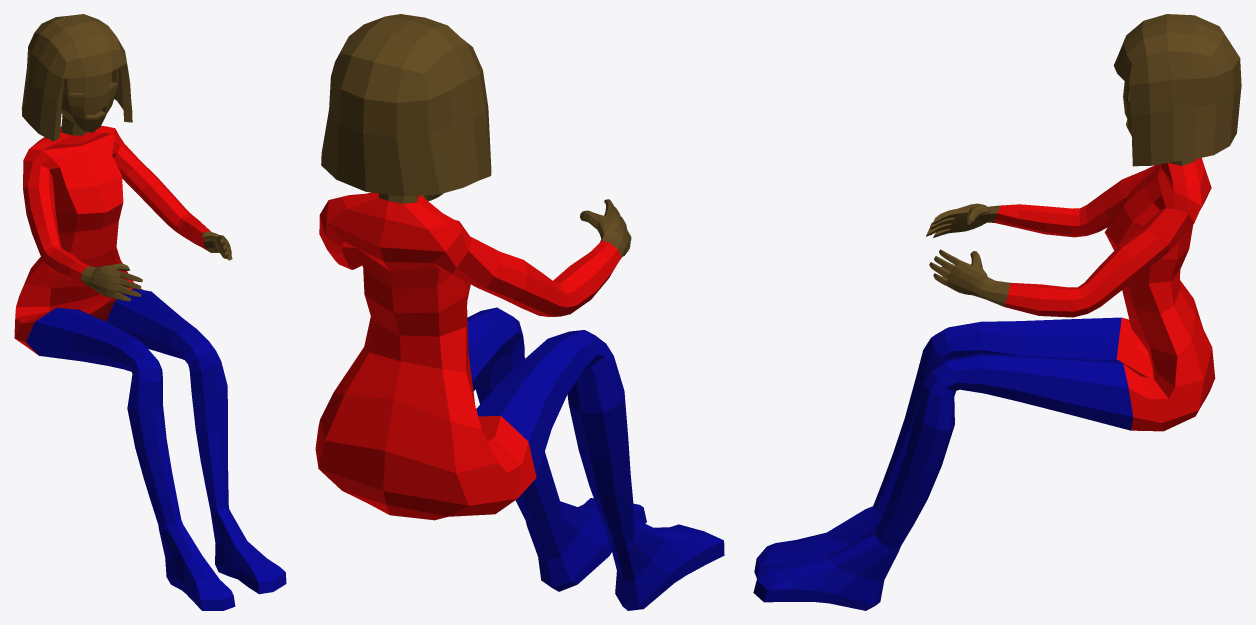
The model's file is Female sitting position.fbx.
3 views of the same model, side by side, from view 1: azimuth 30°, elevation 25°; view 2: azimuth 150°, elevation 25°; view 3: azimuth 270°, elevation 25° (orthographic). The views are drawn at different scales.
Parts seen in each view (by area): view 1: polySurface322, polySurface323; view 2: polySurface322, polySurface323; view 3: polySurface322, polySurface323.
Part boxes in pixels (<box>): polySurface322: <box>14,68,286,610</box>; polySurface323: <box>21,14,132,141</box>; polySurface322: <box>315,192,724,610</box>; polySurface323: <box>321,14,491,196</box>; polySurface322: <box>753,81,1215,610</box>; polySurface323: <box>1113,14,1241,166</box>.
Bounding box in the file's own units: 102 × 294 × 227.
